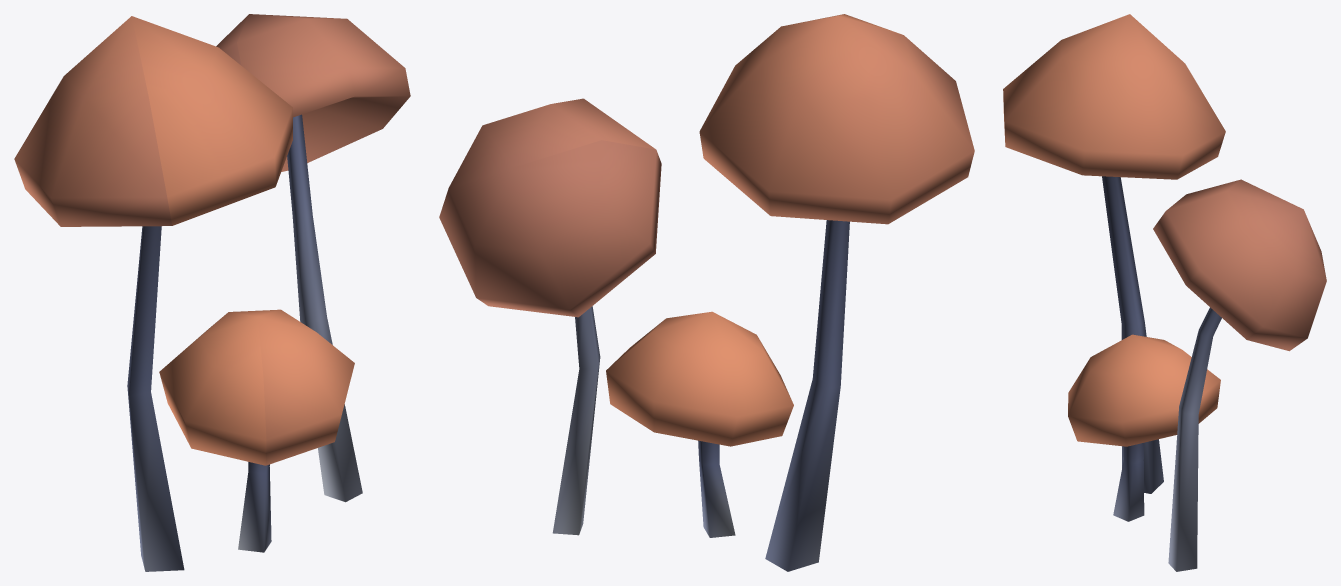
Rendered from Mushroom_Small_0_1.fbx.
3 views of the same model, side by side, from view 1: azimuth 30°, elevation 25°; view 2: azimuth 150°, elevation 25°; view 3: azimuth 270°, elevation 25° (orthographic). The views are drawn at different scales.
Visible parts, largest first — view 1: mushroom-toadstool-green; view 2: mushroom-toadstool-green; view 3: mushroom-toadstool-green.
Boxes of the visible parts, x1=… form: mushroom-toadstool-green: x1=14, y1=14, x2=410, y2=571; mushroom-toadstool-green: x1=439, y1=14, x2=974, y2=571; mushroom-toadstool-green: x1=1003, y1=14, x2=1326, y2=571.
Bounding box in the file's own units: 72.69 × 89.3 × 57.49.
